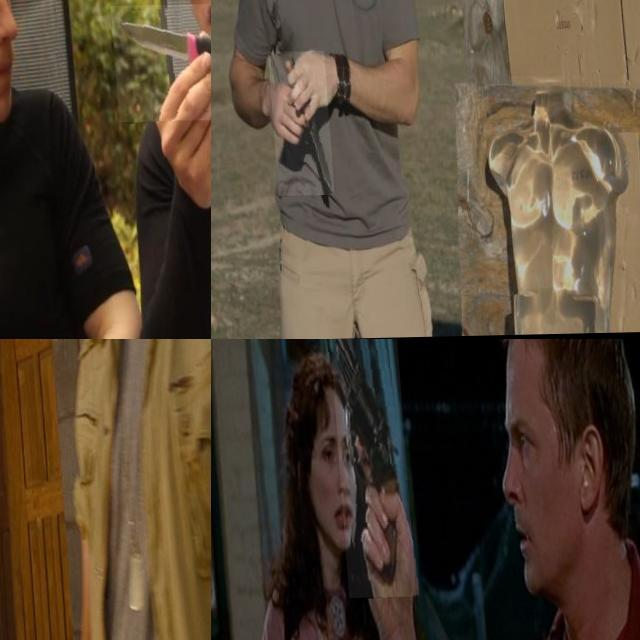-: (107, 4, 211, 123), (262, 52, 326, 198)
gun-knife-thesis - v11 Yolov5 augmented: (326, 339, 410, 599), (0, 513, 30, 640)
